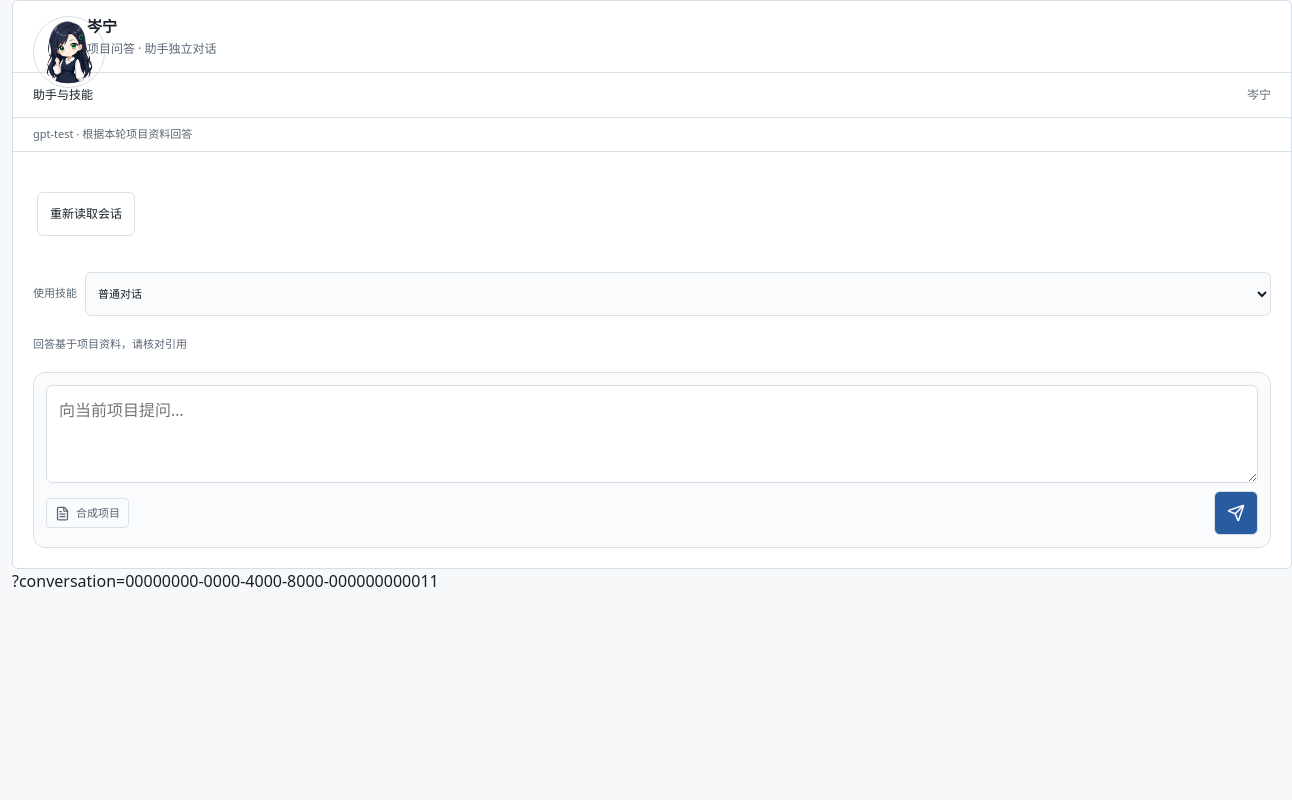
a failed reread keeps the recovery token and an edited draft, with sending locked
This screenshot has width=1292, height=800.
Expected: the text "gpt-test" is shown, [33, 126, 74, 141]
In the text box named "向项目知识提问": (652, 434) [46, 385, 1258, 483], type "最初发送的问题"
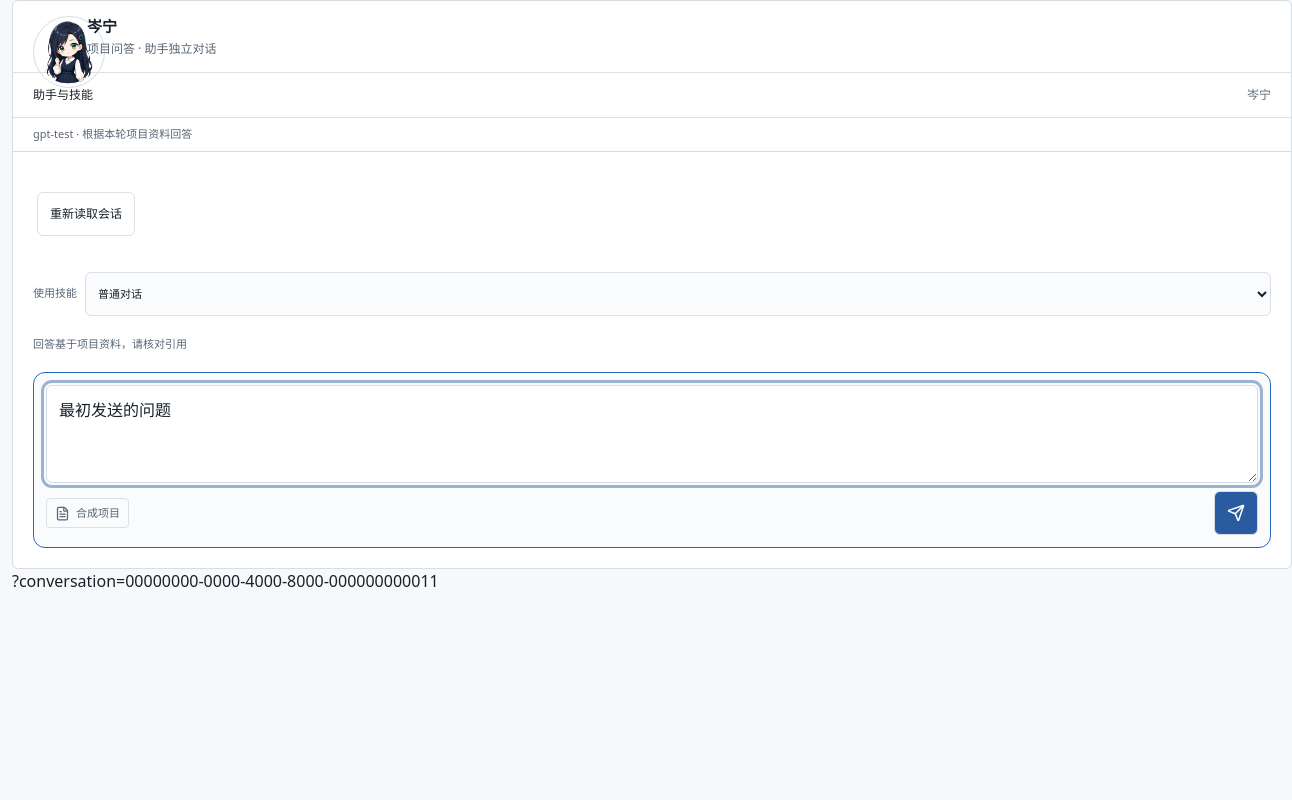
Click the button named "生成回答": (1236, 513) [1214, 491, 1258, 535]
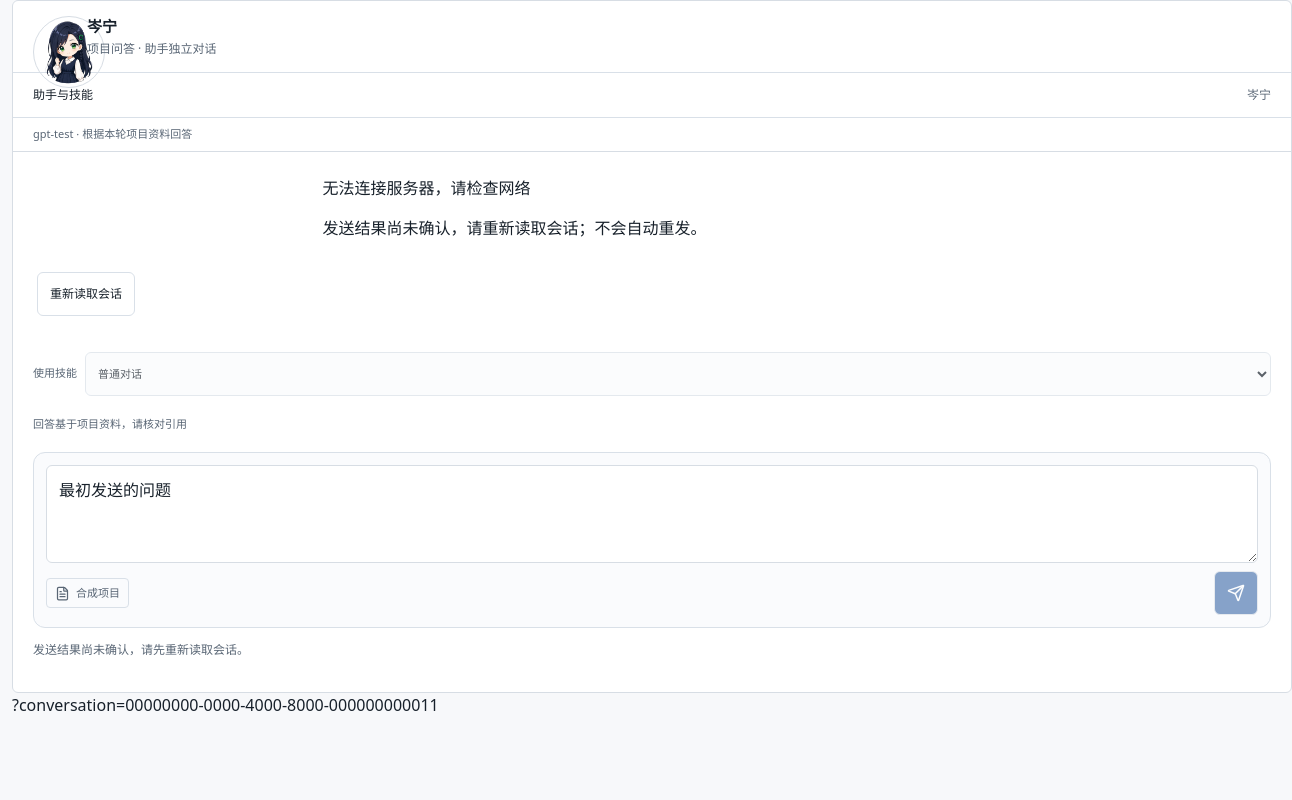
Expected: the text "发送结果尚未确认，请重新读取会话；不会自动重发。" is shown, [322, 216, 706, 238]
Replace the text in the text box named "向项目知识提问" with "后来修改的草稿": (652, 514) [46, 465, 1258, 563]
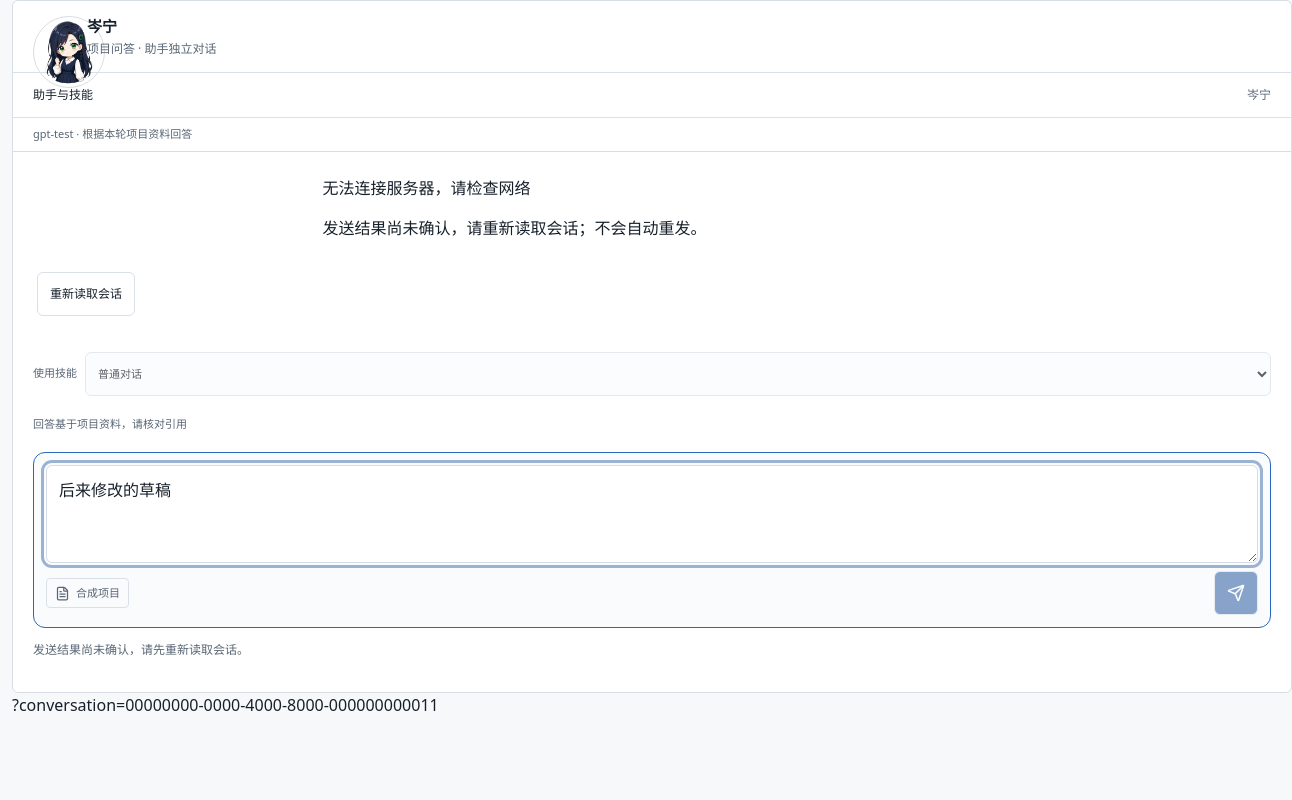
Click the button "重新读取会话": (86, 294) [37, 272, 135, 316]
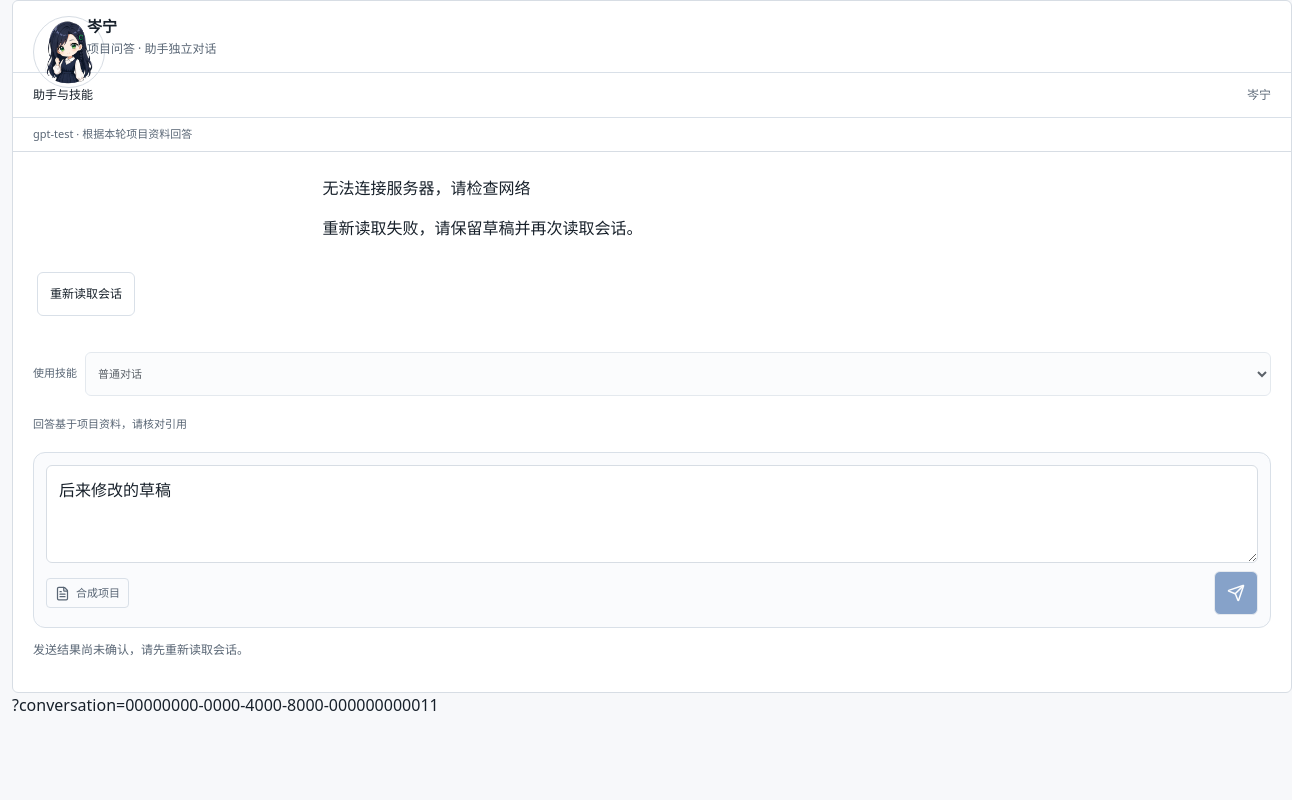
Expected: the button named "生成回答" is disabled, [1214, 571, 1258, 615]
Expected: the text "重新读取失败，请保留草稿并再次读取会话。" is shown, [322, 216, 642, 238]
